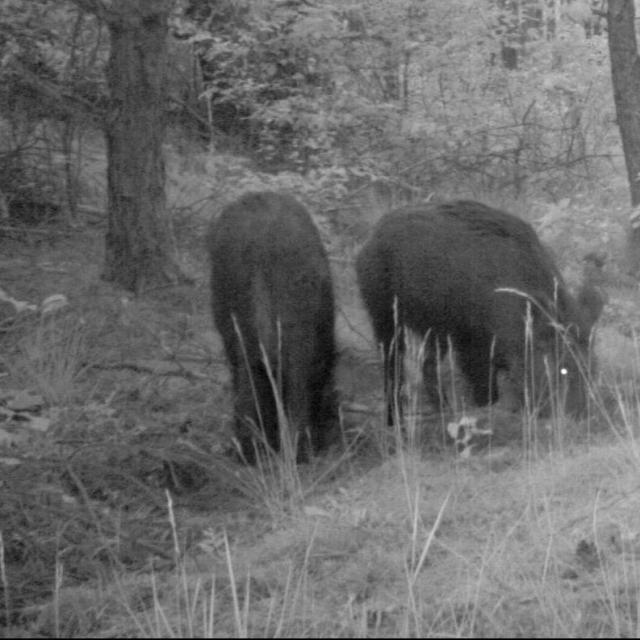pig: (343, 165, 615, 476), (198, 180, 345, 464)
